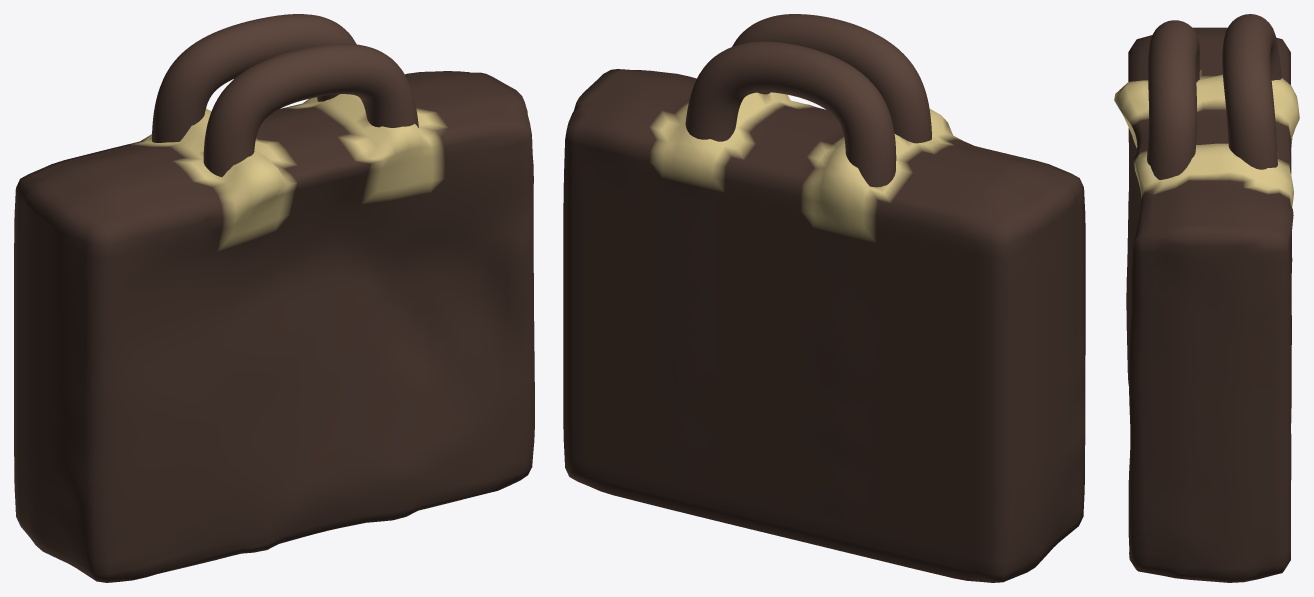
The model's file is WorkBag.glb.
3 renders of one model, left to right at view 1: azimuth 30°, elevation 25°; view 2: azimuth 150°, elevation 25°; view 3: azimuth 270°, elevation 25°, orthographic. The views are drawn at different scales.
Visible parts, largest first — view 1: Box, Tube, Tube 1; view 2: Box, Tube 1, Tube; view 3: Box, Tube 1, Tube.
Part boxes in pixels (bbox=[...]): Box: bbox=[14, 71, 534, 582]; Tube: bbox=[203, 43, 418, 176]; Tube 1: bbox=[152, 14, 356, 142]; Box: bbox=[563, 69, 1085, 582]; Tube 1: bbox=[685, 41, 896, 187]; Tube: bbox=[732, 14, 931, 143]; Box: bbox=[1114, 27, 1299, 582]; Tube 1: bbox=[1222, 14, 1281, 169]; Tube: bbox=[1147, 20, 1199, 179].
Size of the model in its own units: 0.3788 by 0.3795 by 0.1373.
